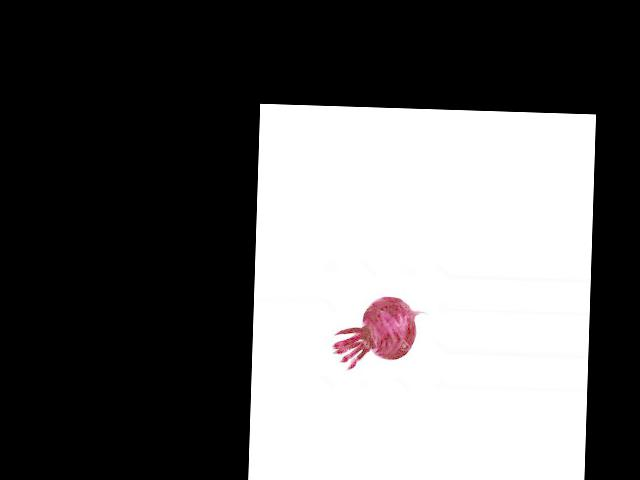beet: (331, 294, 428, 372)
